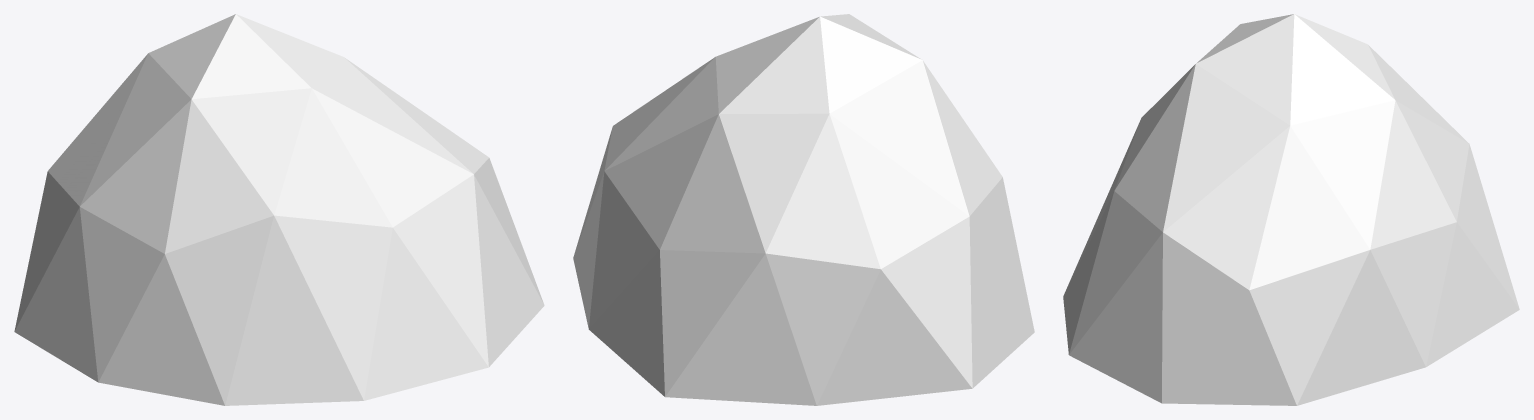
File: QuarryStone(2).fbx
3 views of the same model, side by side, from view 1: azimuth 30°, elevation 25°; view 2: azimuth 150°, elevation 25°; view 3: azimuth 270°, elevation 25° (orthographic). The views are drawn at different scales.
Visible parts, largest first — view 1: QuarryStone(2); view 2: QuarryStone(2); view 3: QuarryStone(2).
Part boxes in pixels (x1,y1,x2,y2): QuarryStone(2): [14, 14, 544, 405]; QuarryStone(2): [573, 14, 1034, 405]; QuarryStone(2): [1063, 14, 1519, 405].
Bounding box in the file's own units: 4.4 × 2.91 × 4.3.
